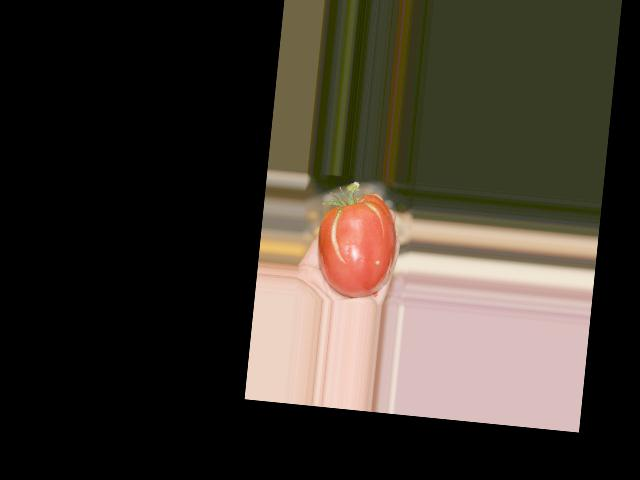tomato: (314, 189, 401, 301)
